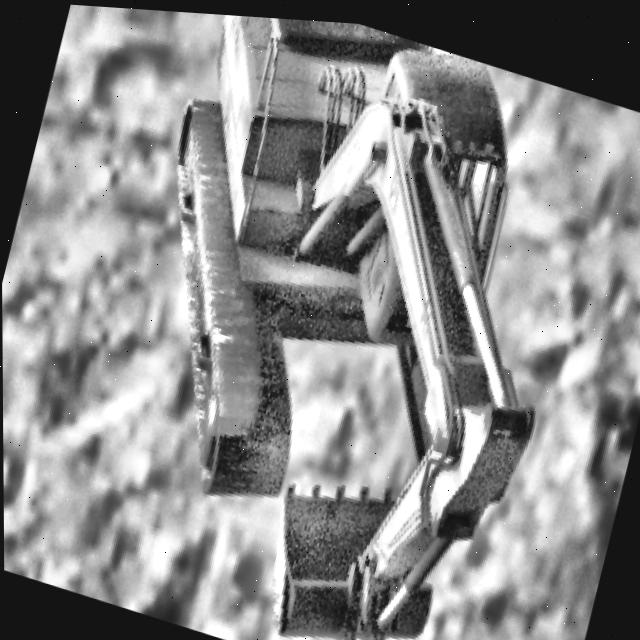excavator: (66, 3, 615, 640)
